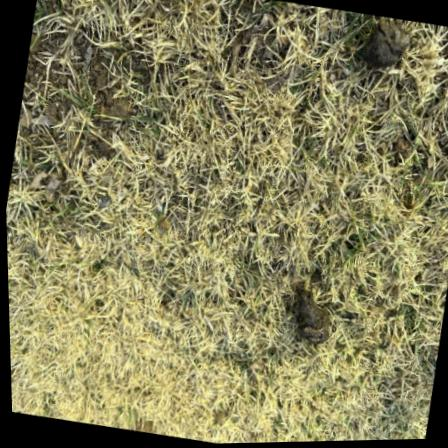dog-poop: (357, 14, 417, 81), (283, 283, 338, 348)
